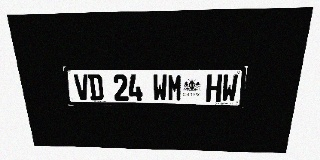2: (113, 74, 129, 101)
4: (128, 74, 143, 101)
D: (88, 74, 104, 101)
H: (206, 74, 223, 102)
M: (168, 74, 182, 101)
V: (73, 74, 90, 100)
W: (221, 74, 239, 102), (152, 74, 167, 101)
